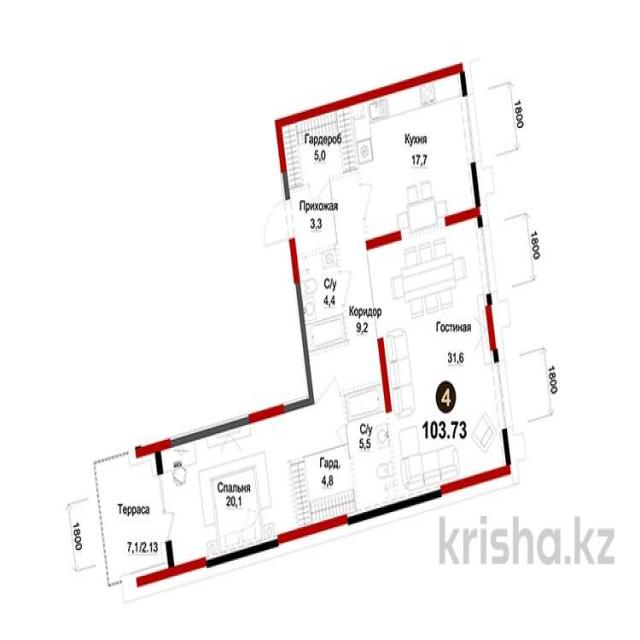balcony: (101, 447, 172, 591)
bathroom: (344, 377, 406, 515), (293, 241, 352, 356)
hallway: (282, 233, 386, 464), (288, 172, 363, 255)
kitchen: (350, 67, 478, 247)
living_room: (366, 211, 511, 502), (158, 409, 298, 573)
other: (277, 100, 359, 194), (289, 442, 361, 531)
